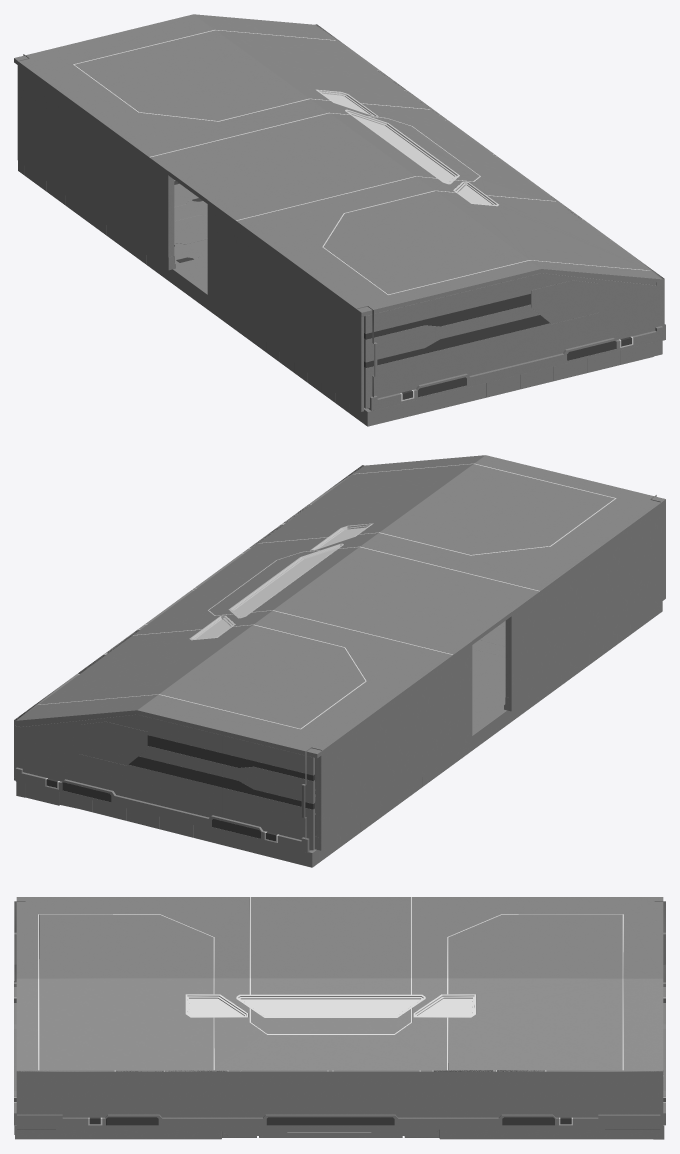
File: Ship_Room_Bedroom_001.fbx
3 renders of one model, top to bottom at view 1: azimuth 30°, elevation 25°; view 2: azimuth 150°, elevation 25°; view 3: azimuth 270°, elevation 25°, orthographic. The views are drawn at different scales.
Visible parts, largest first — view 1: Ship_Room_Bedroom_Ceiling_001, Ship_Room_Bedroom_Wall_Short_001, Ship_Room_Bedroom_Wall_Long_002, Ship_Room_Bedroom_Wall_Long_001, Ship_Room_Bedroom_Floor_001, Ship_Room_Bedroom_Wall_Low_001; view 2: Ship_Room_Bedroom_Ceiling_001, Ship_Room_Bedroom_Wall_Short_002, Ship_Room_Bedroom_Wall_Long_001, Ship_Room_Bedroom_Wall_Long_002, Ship_Room_Bedroom_Floor_001, Ship_Room_Bedroom_Wall_Low_001; view 3: Ship_Room_Bedroom_Ceiling_001, Ship_Room_Bedroom_Wall_Low_001, Ship_Room_Bedroom_Floor_001, Ship_Room_Bedroom_CornerColumns_001, Ship_Room_Bedroom_Wall_Short_001, Ship_Room_Bedroom_Wall_Short_002.
Part boxes in pixels (x1,y1,x2,y2): Ship_Room_Bedroom_Ceiling_001: (14, 14, 661, 316); Ship_Room_Bedroom_Wall_Short_001: (364, 273, 664, 410); Ship_Room_Bedroom_Wall_Long_002: (17, 61, 175, 270); Ship_Room_Bedroom_Wall_Long_001: (207, 200, 364, 411); Ship_Room_Bedroom_Floor_001: (18, 161, 662, 426); Ship_Room_Bedroom_Wall_Low_001: (314, 24, 665, 340); Ship_Room_Bedroom_Ceiling_001: (16, 455, 664, 758); Ship_Room_Bedroom_Wall_Short_002: (14, 714, 314, 852); Ship_Room_Bedroom_Wall_Long_001: (504, 498, 665, 711); Ship_Room_Bedroom_Wall_Long_002: (315, 641, 472, 850); Ship_Room_Bedroom_Floor_001: (16, 601, 662, 867); Ship_Room_Bedroom_Wall_Low_001: (14, 465, 364, 780); Ship_Room_Bedroom_Ceiling_001: (16, 897, 663, 1074); Ship_Room_Bedroom_Wall_Low_001: (16, 1070, 662, 1135); Ship_Room_Bedroom_Floor_001: (14, 1125, 664, 1139); Ship_Room_Bedroom_CornerColumns_001: (14, 901, 665, 982); Ship_Room_Bedroom_Wall_Short_001: (14, 981, 16, 1125); Ship_Room_Bedroom_Wall_Short_002: (663, 982, 665, 1125).
Bounding box in the file's own units: 1343 × 487 × 2679.
